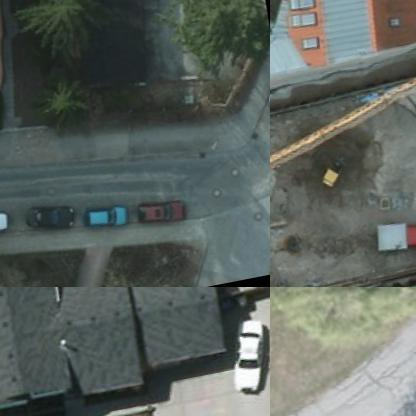car: (217, 310, 269, 399), (136, 186, 194, 226), (23, 194, 81, 234), (81, 198, 136, 230), (0, 204, 17, 240), (403, 211, 415, 251)
